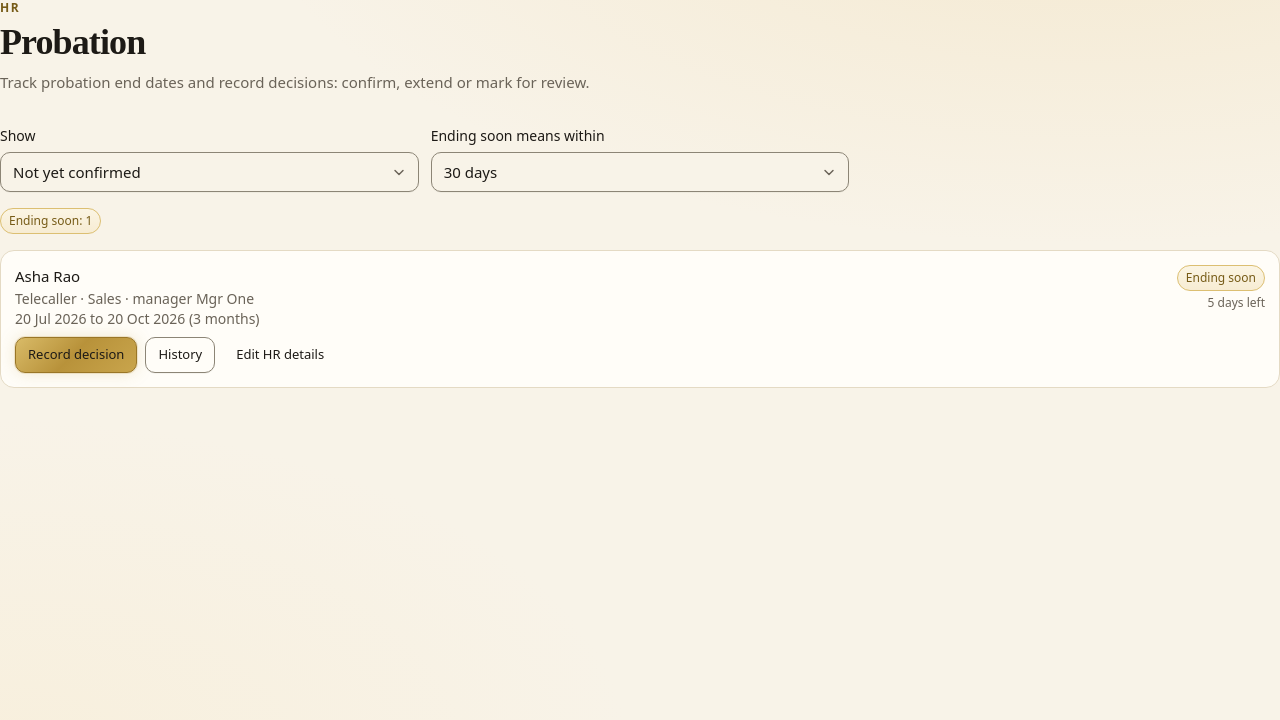
Test case: ProbationPage › validates the decision form: EXTEND needs months 1-6 and a note; nothing is sent until valid
Click the button "Record decision" at coordinates (76, 354), box [15,336,137,372]
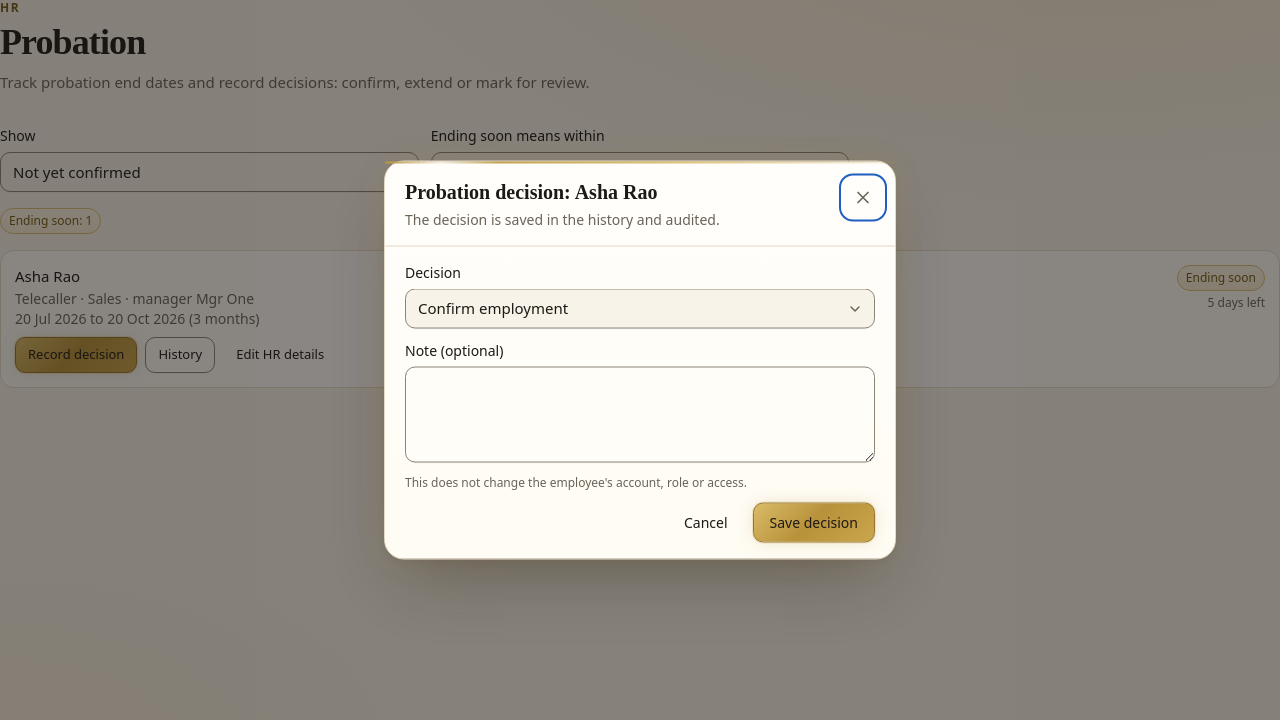
Select "Extend probation" in the dropdown labelled "Decision" at coordinates (640, 308), box [405,288,875,328]
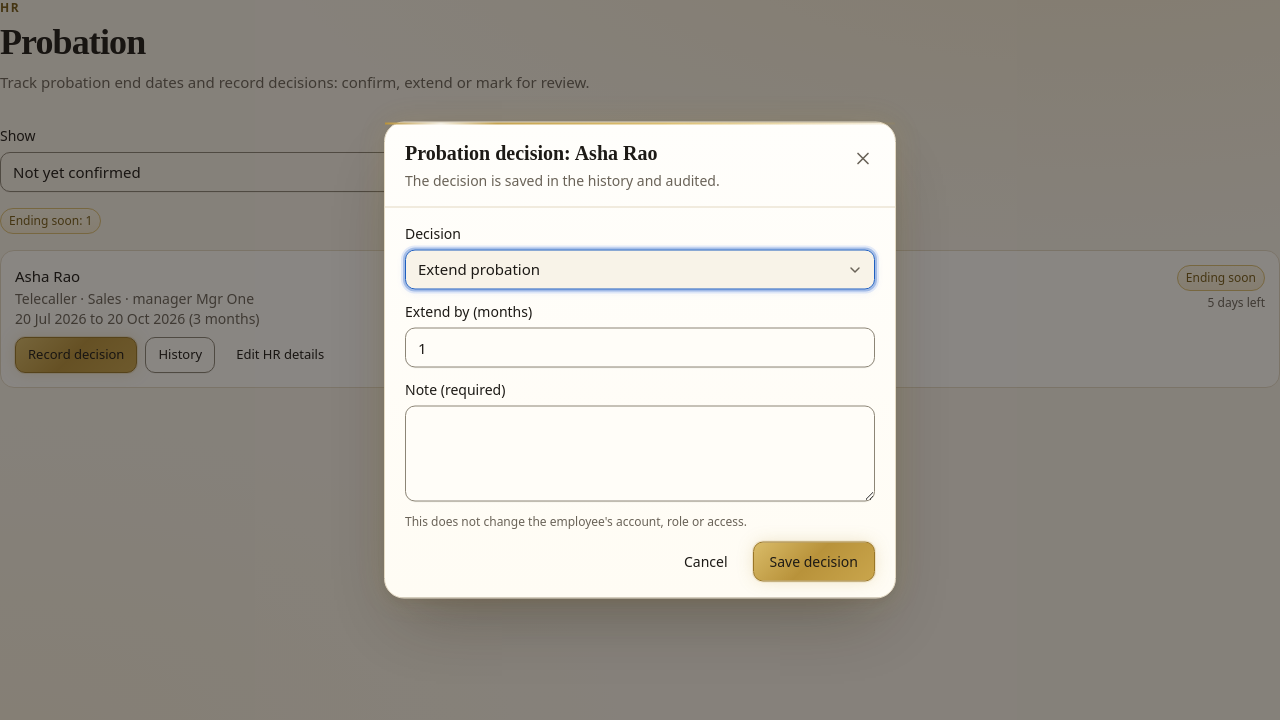
Replace the text in the field labelled "Extend by (months)" with "9" at coordinates (640, 348), box [405,328,875,368]
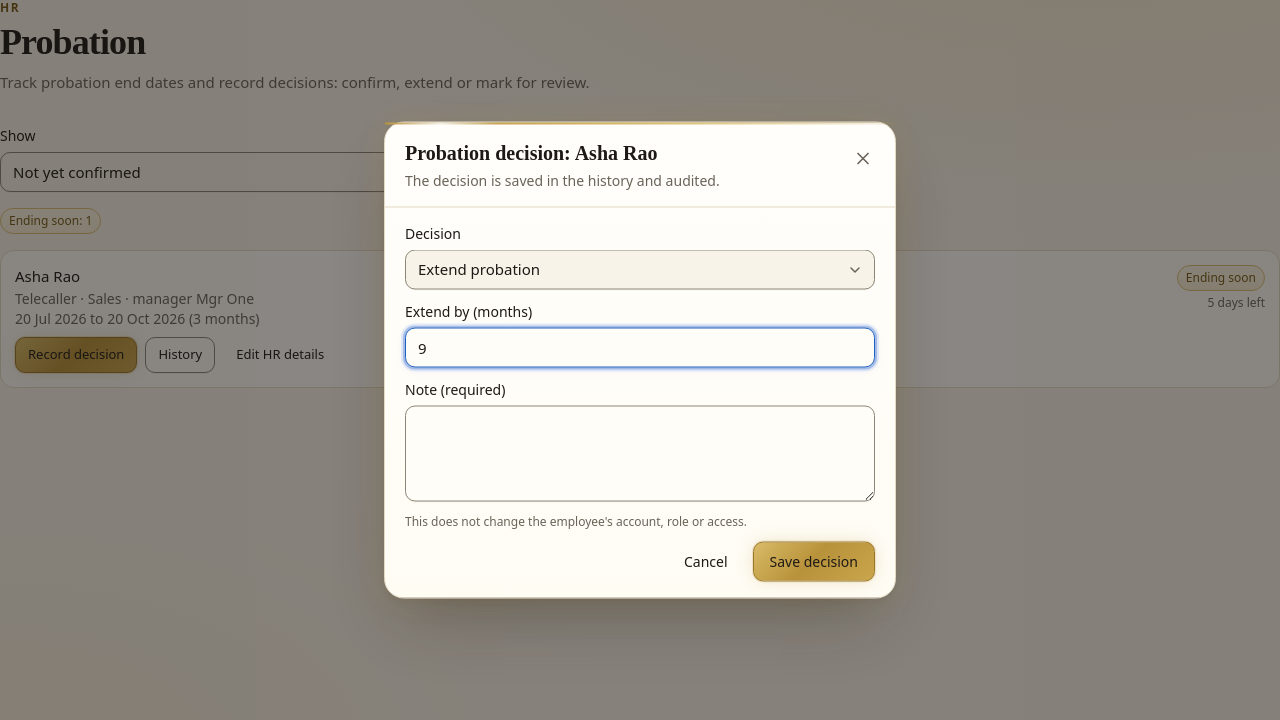
Click the button "Save decision" at coordinates (814, 562), box [752,542,875,582]
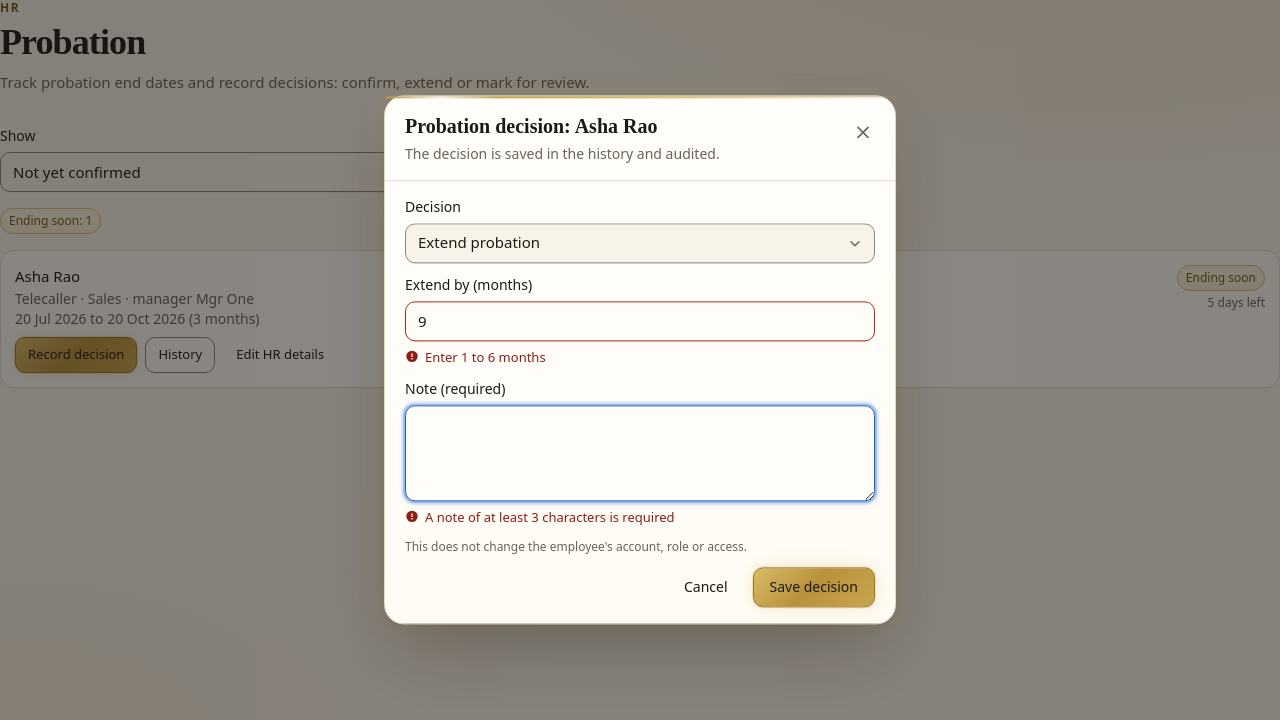
expect the text "Enter 1 to 6 months" is shown: met, box [425,347,546,368]
expect the text "A note of at least 3 characters is required" is shown: met, box [425,508,675,528]
